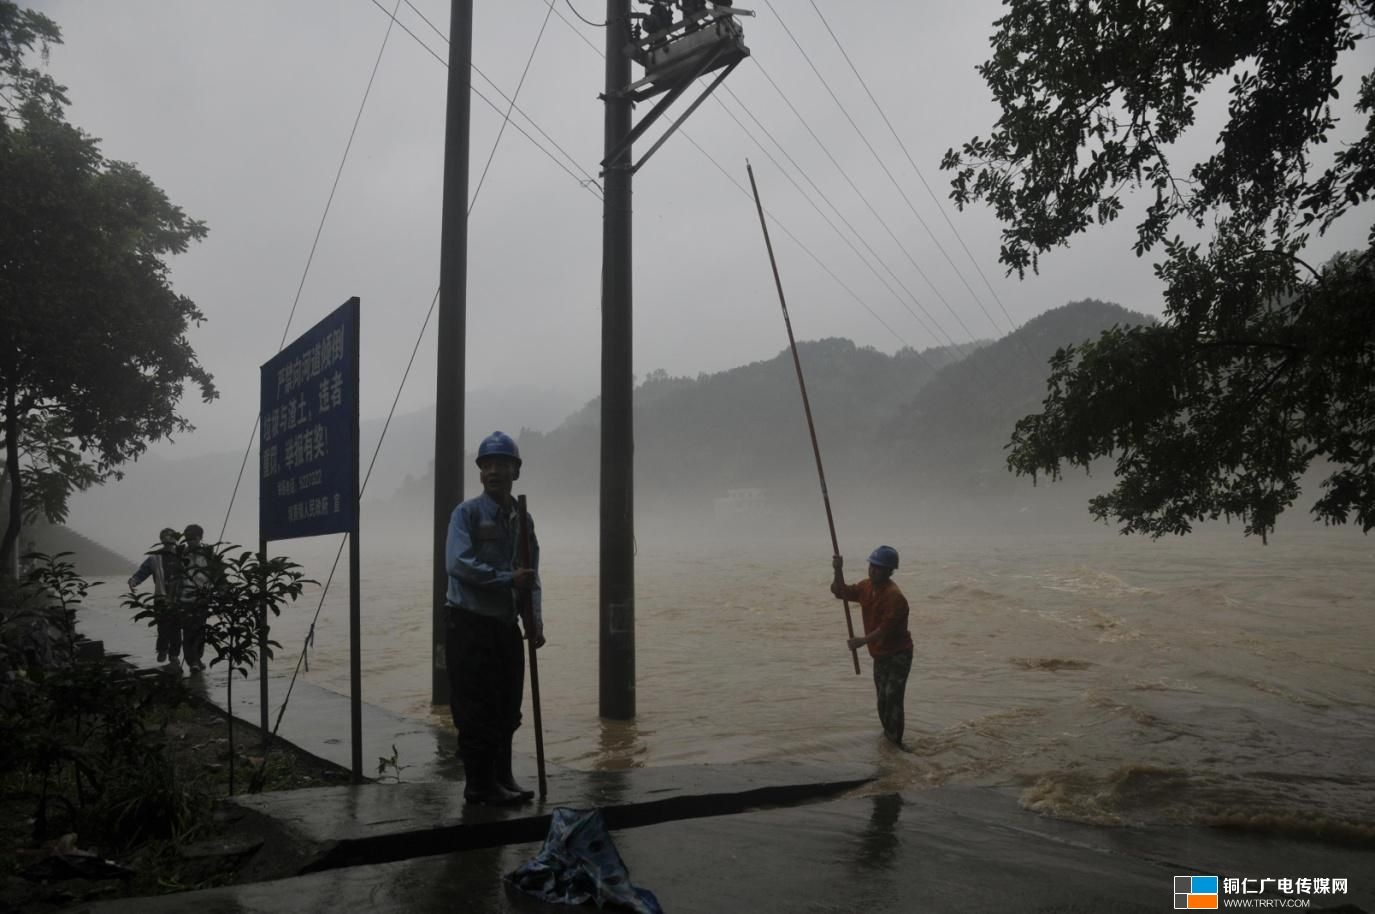blue: (471, 429, 523, 495), (864, 544, 899, 585)
